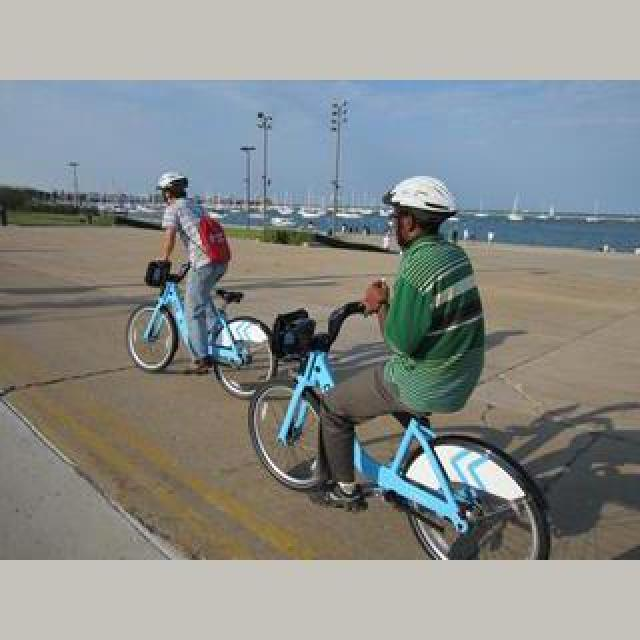MC-Bike: (378, 176, 488, 500), (318, 276, 402, 500), (150, 172, 234, 370)
Person: (233, 310, 553, 558), (123, 264, 273, 400)
